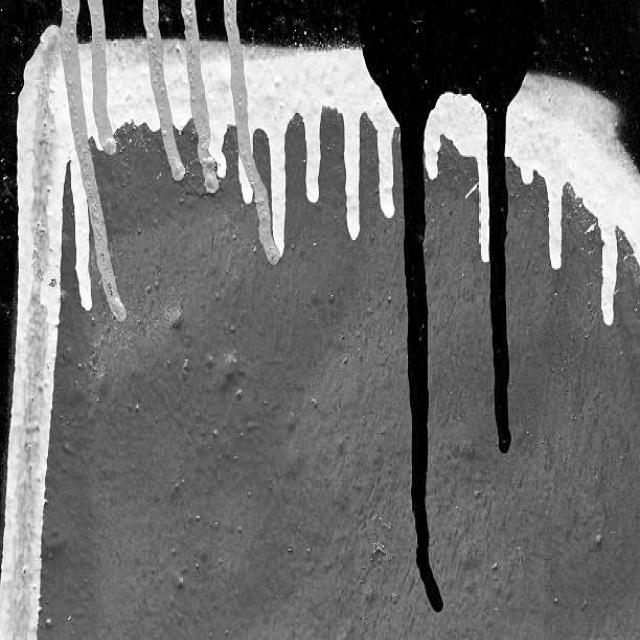paint drips: (40, 0, 399, 328), (399, 102, 524, 621)
